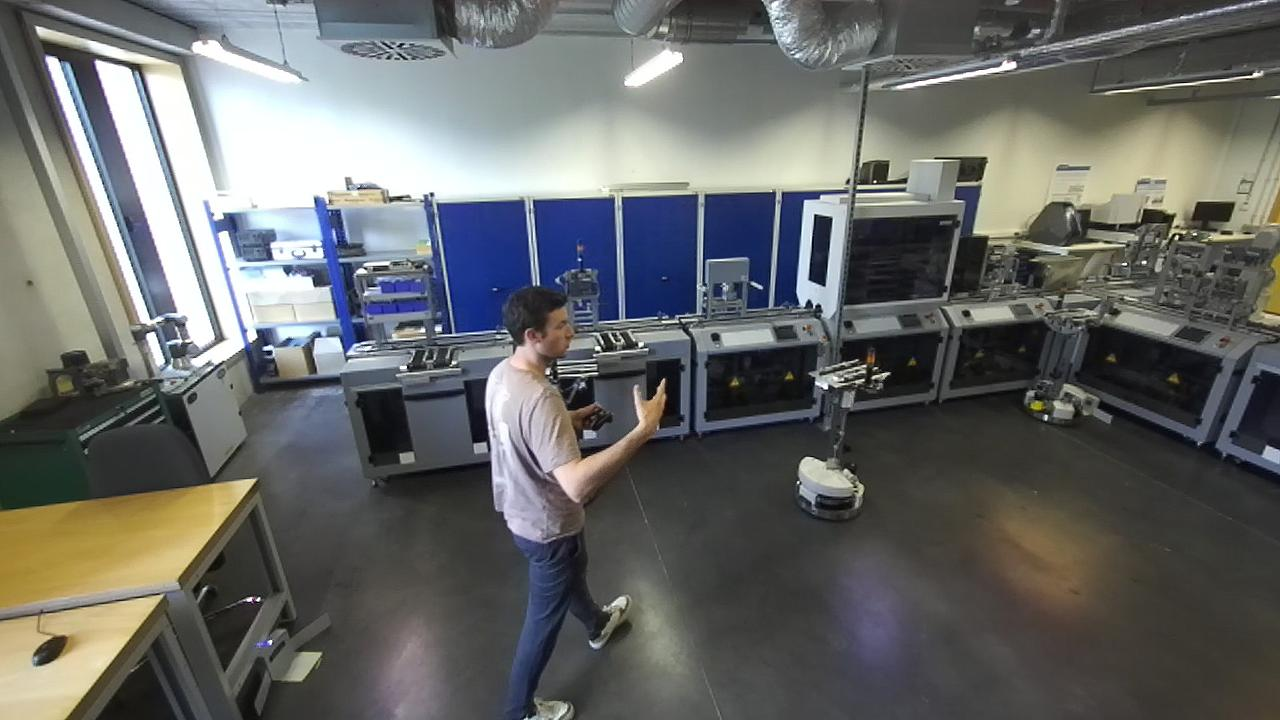AMR: (795, 342, 888, 524), (1027, 275, 1115, 426)
Human: (475, 283, 644, 720)
